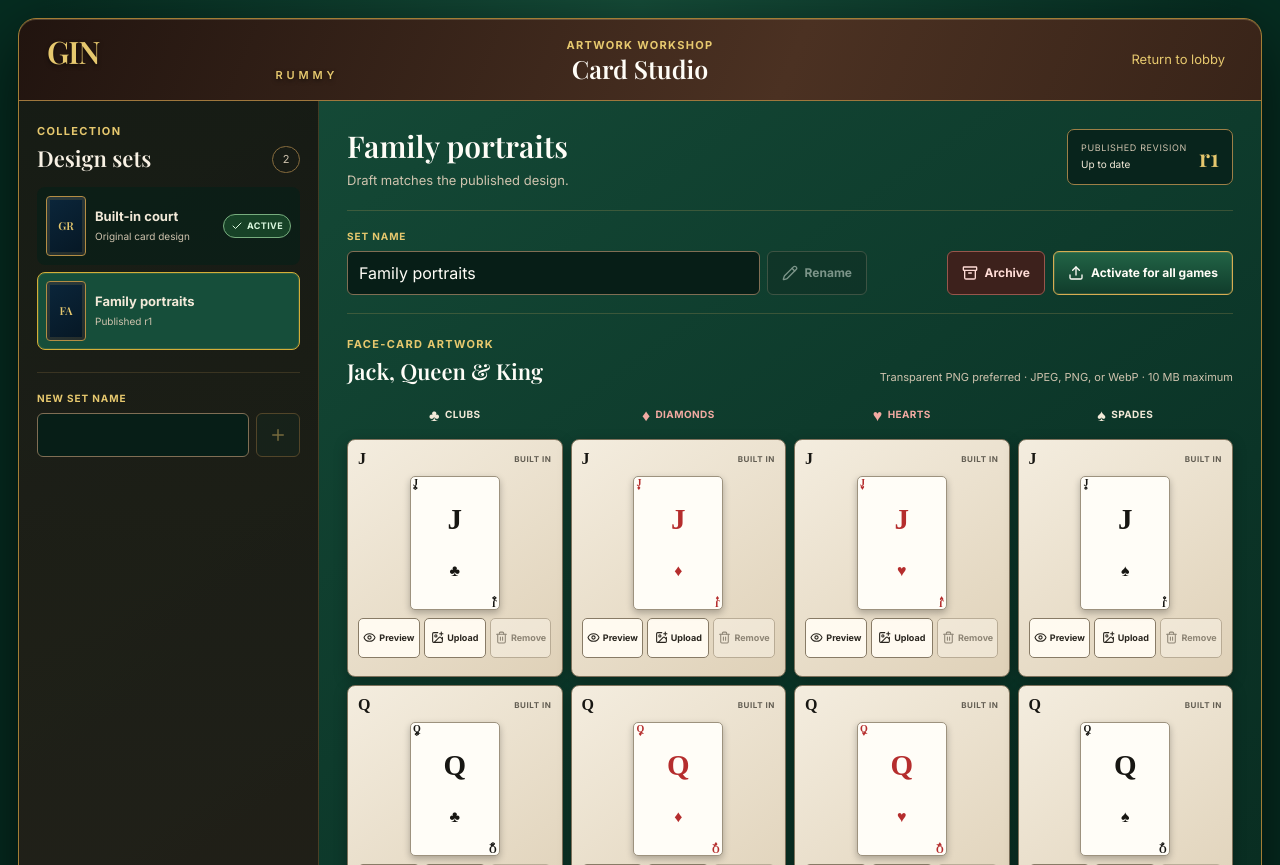
Test: CardStudio › supports keyboard dialog dismissal and restores focus
This screenshot has width=1280, height=865.
Click the button "FA Family portraits Published r1" at point(168, 310), box x1=37 y1=272 x2=300 y2=350
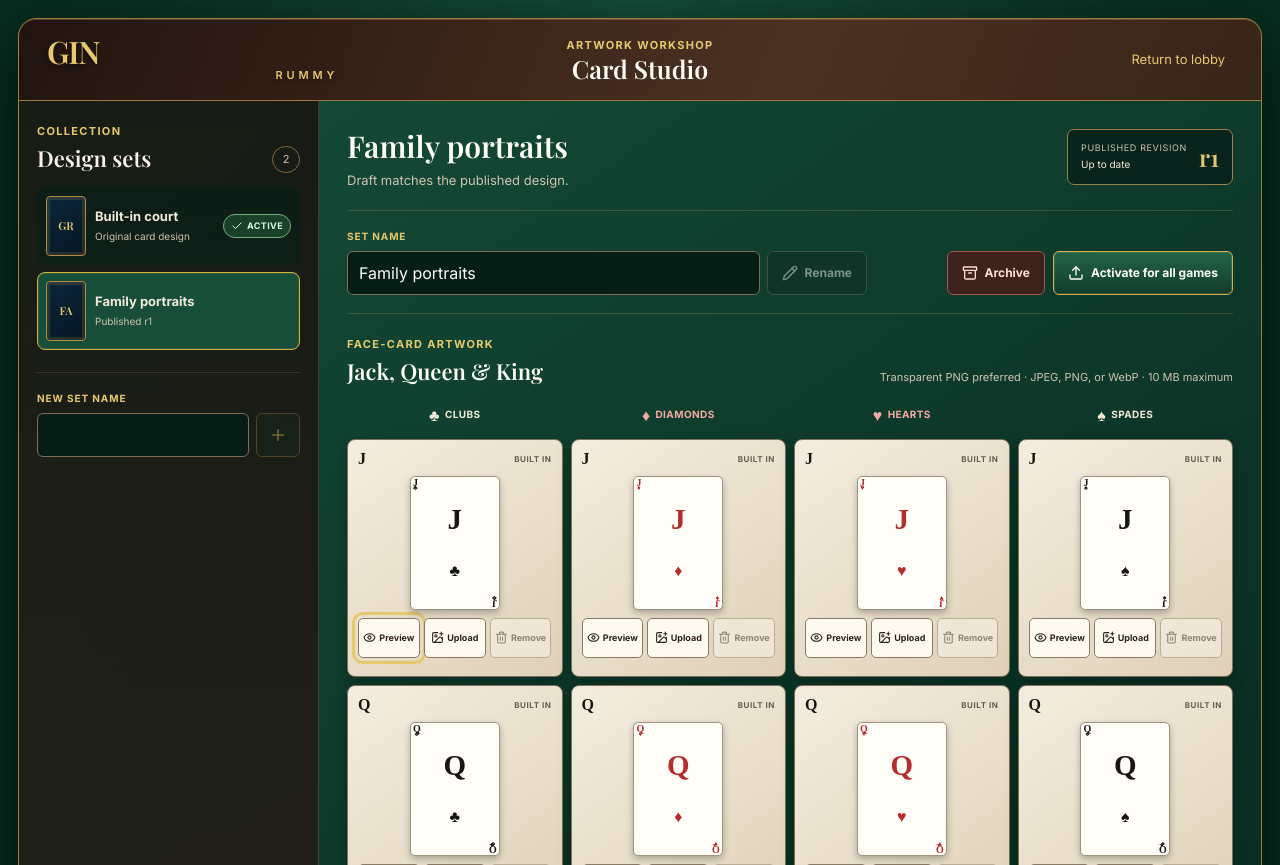
Check: the heading "Family portraits" is shown, box x1=347 y1=129 x2=568 y2=164
Press Enter
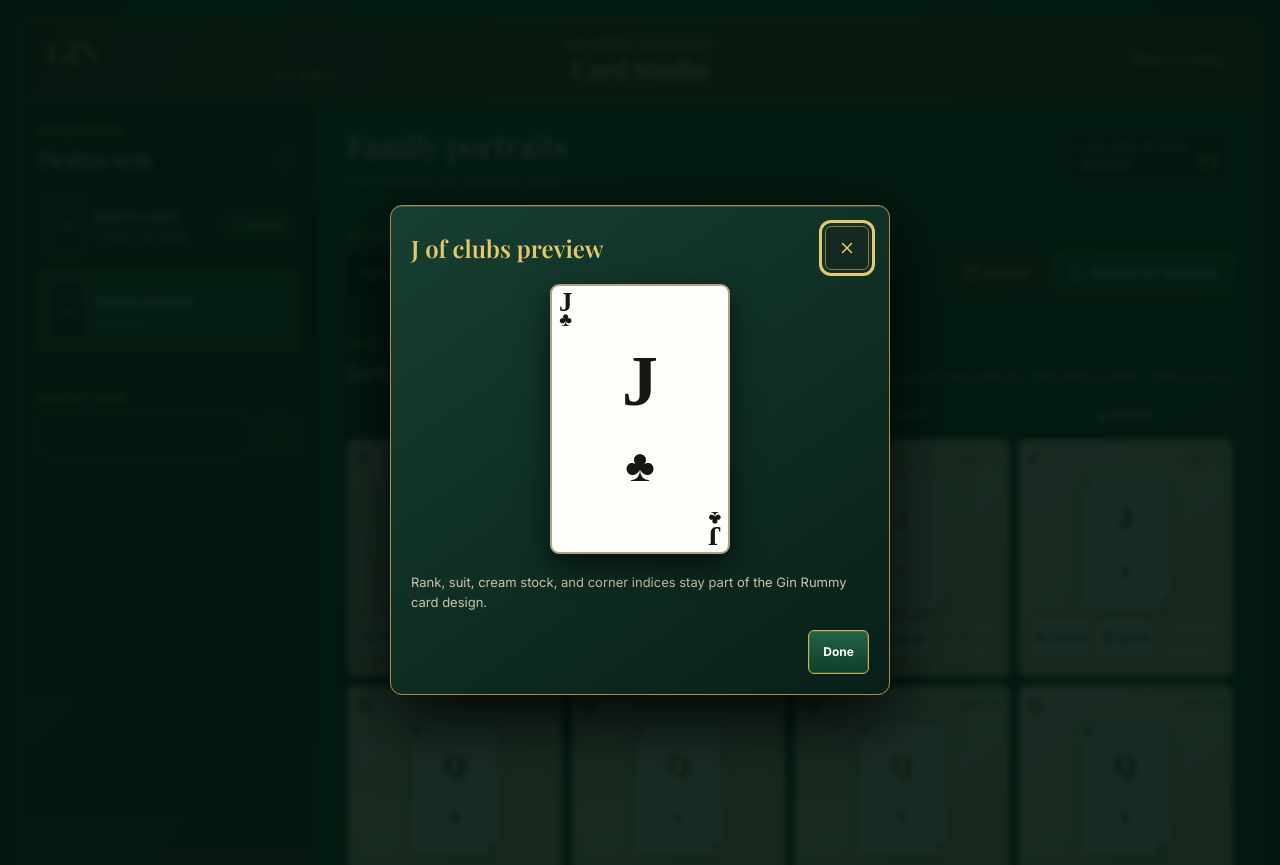
Check: the dialog "J of clubs preview" is shown, box x1=390 y1=205 x2=890 y2=695
Press Escape
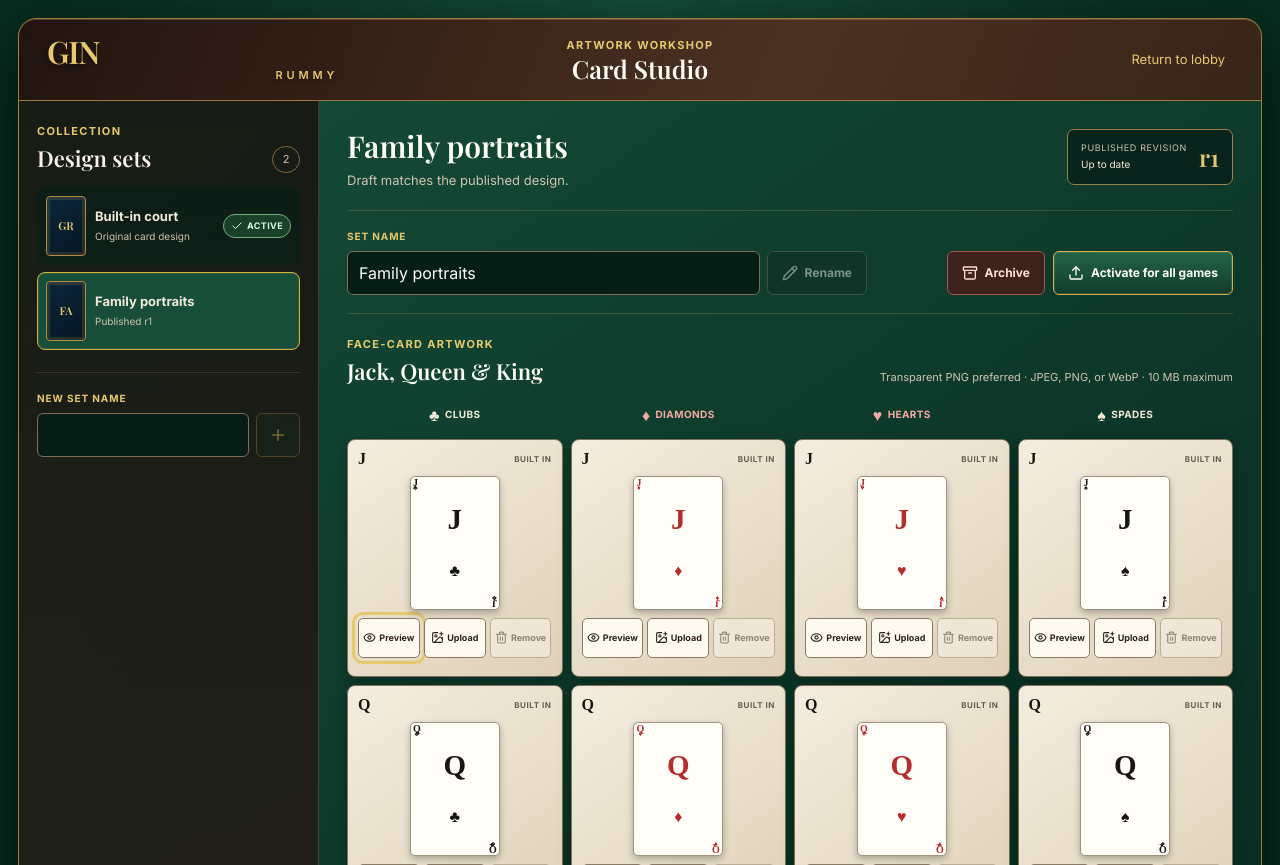
Check: the dialog is gone
